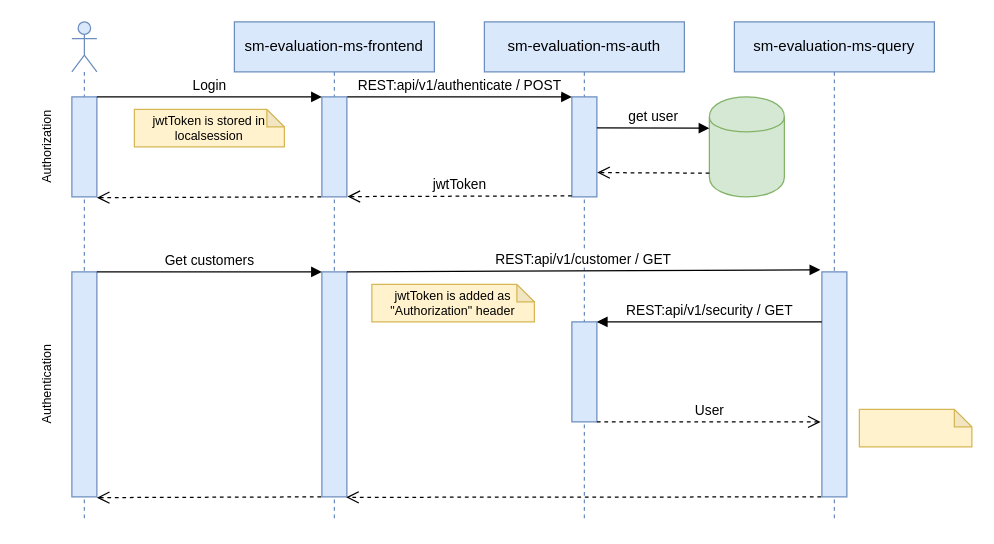
Some shapes in this 994 by 544 pixel diagram are drawn without their labels. The shapes that lost their labels are listed below. From the top down, each one's centre as x and y in pixels, then its label:
At point (746, 146): "Mongo".
At point (915, 427): "User gets authenticated".
